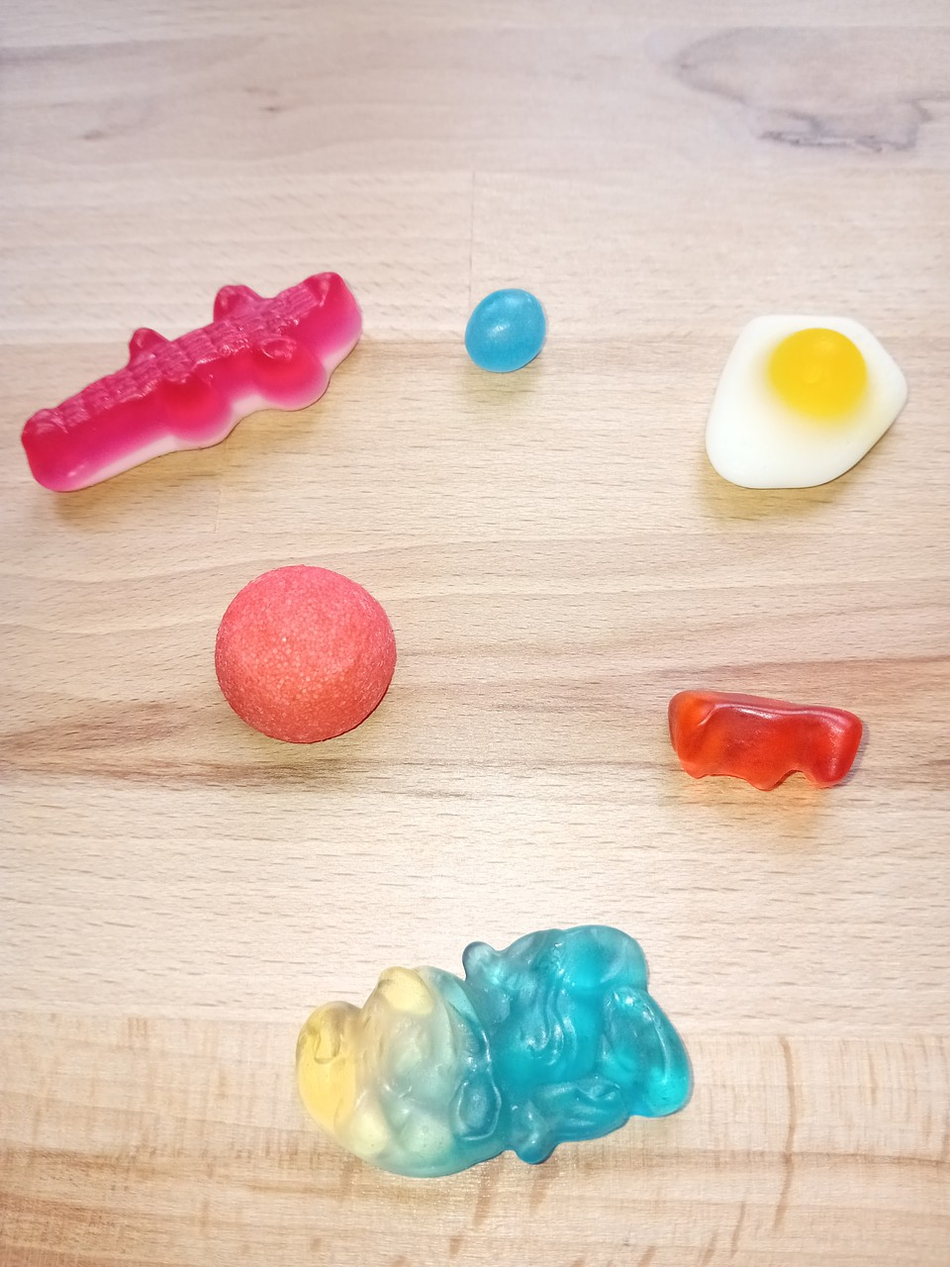crocodile_rouge: (22, 259, 367, 499)
dragibus_bleu: (455, 283, 554, 380)
oeuf_oeuf: (700, 310, 912, 495)
ourson_orangeFonce: (662, 680, 871, 799)
schtroumpf_bleu-blanc: (290, 918, 702, 1184)
tagada_fraise: (202, 563, 407, 747)
